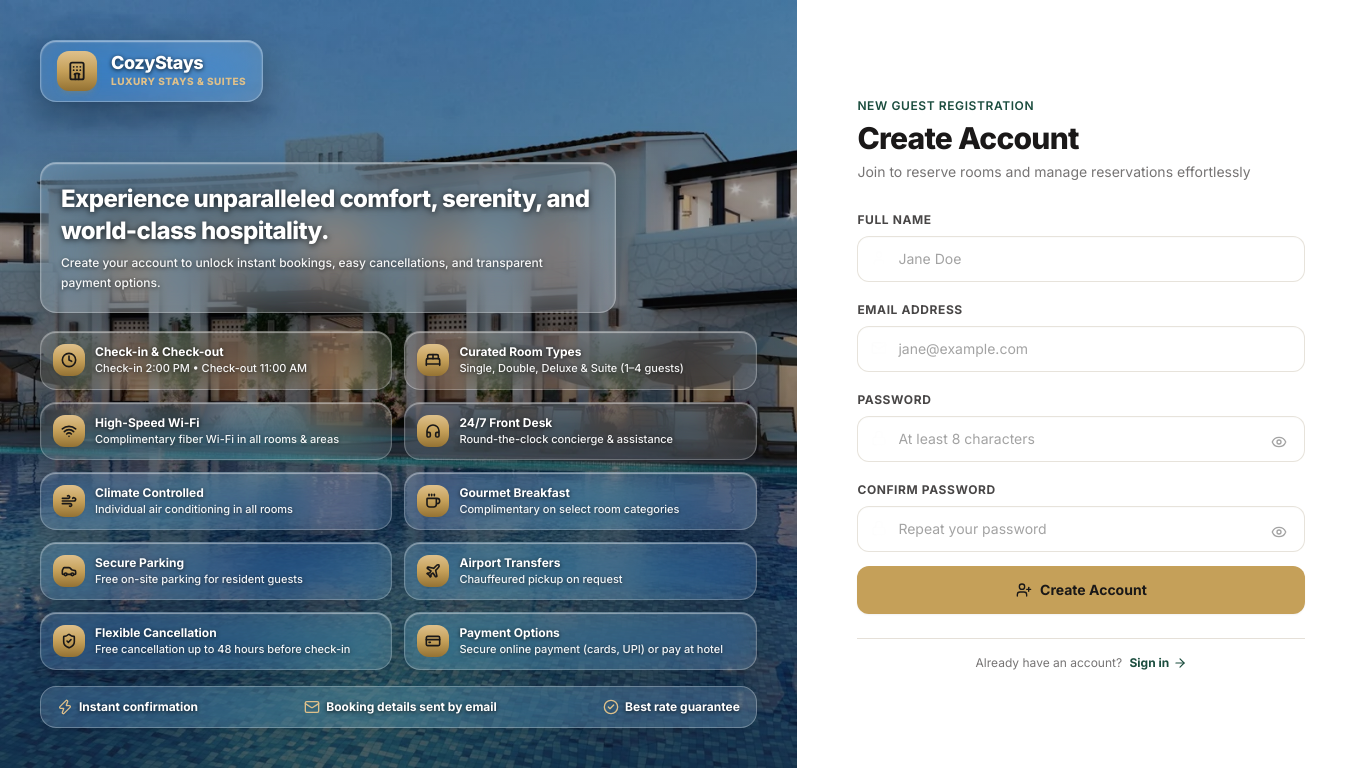
Scenario: Register Page › shows validation error for empty name
The width and height of the screenshot is (1366, 768).
Click the button "Create Account".
click(1081, 590)  # box [857,566,1305,614]
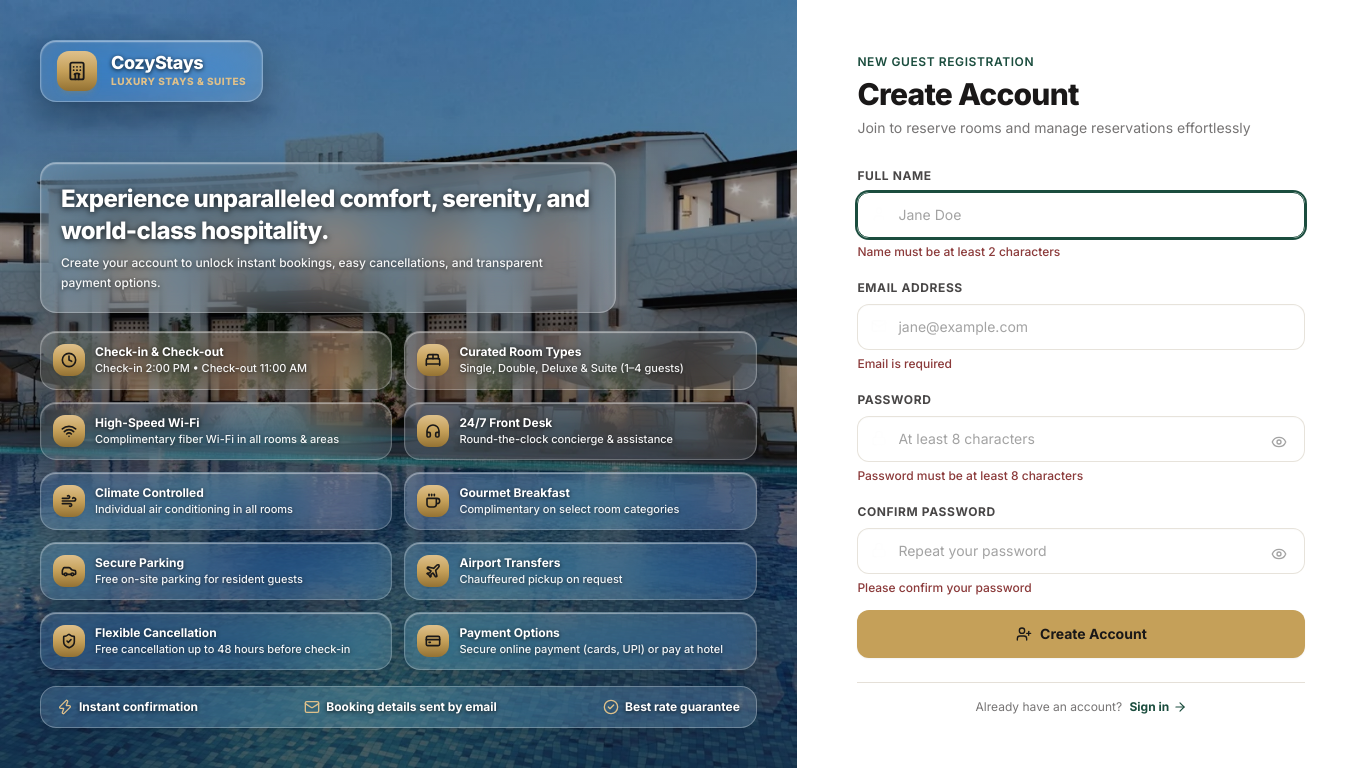
Expected: the text "Name must be at least 2 characters" is shown, [857,244,1060,258]
